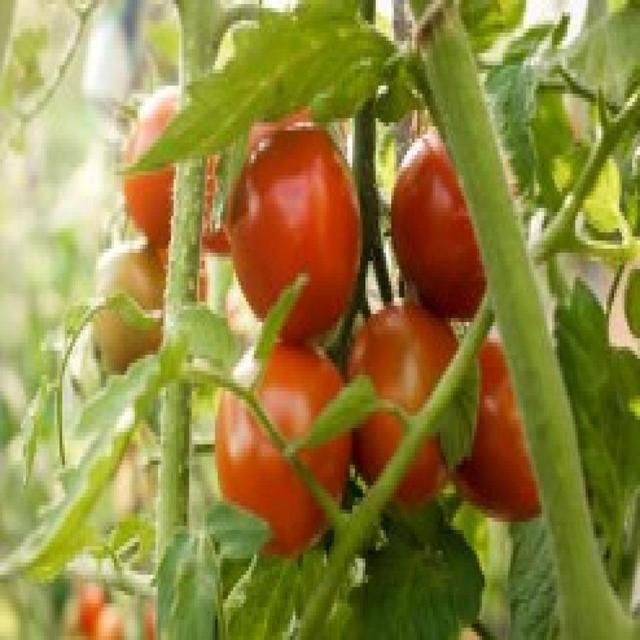Healthy Fruit: (71, 101, 340, 299)
